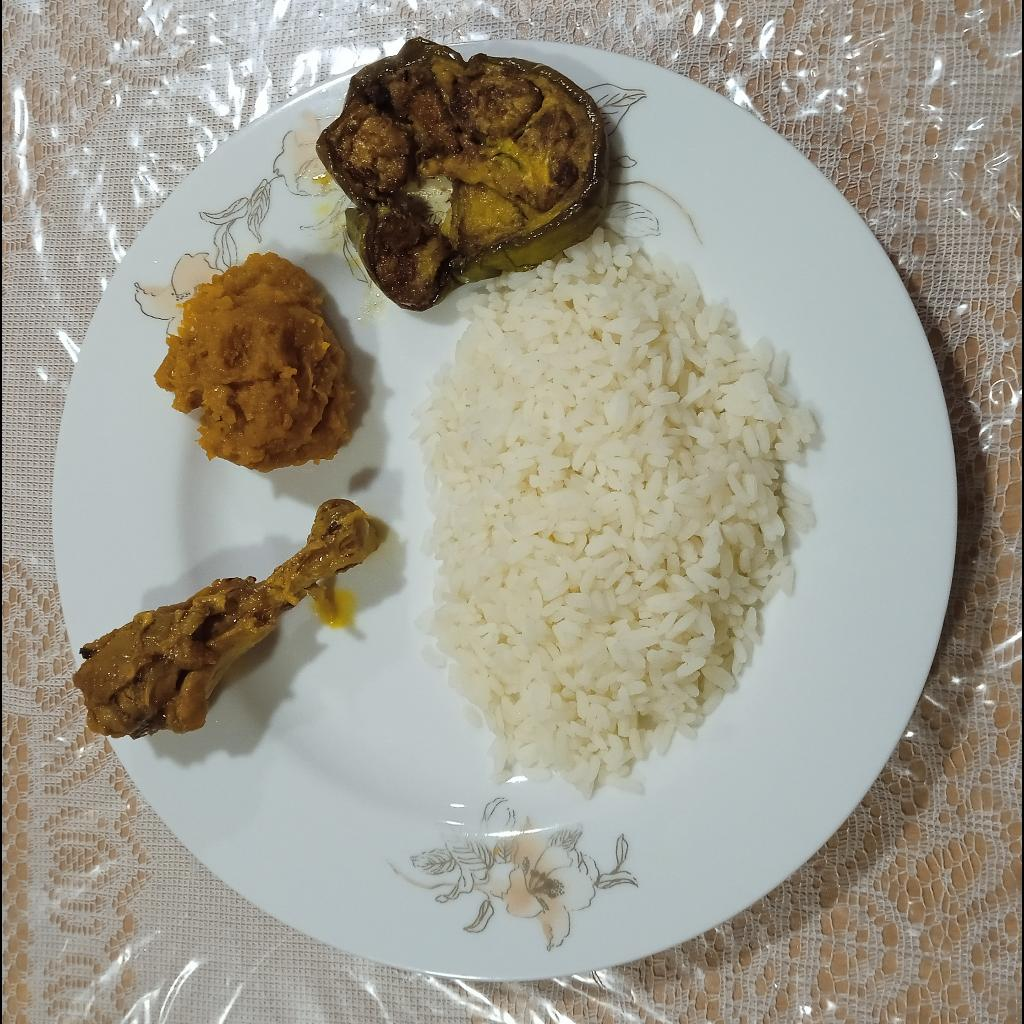chicken: (71, 499, 377, 741)
egg: (316, 32, 612, 318)
kumra-vaji: (148, 250, 355, 472)
rice: (410, 233, 829, 796)
